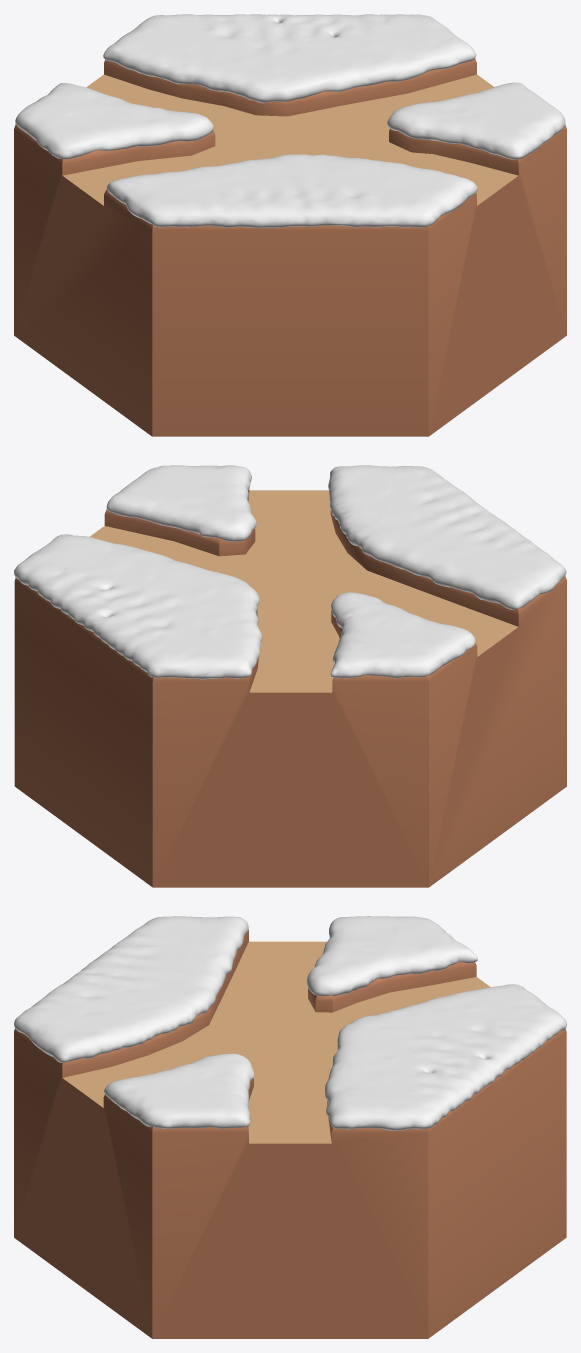
The model's file is hex_rock_roadJ.fbx.
3 renders of one model, top to bottom at view 1: azimuth 30°, elevation 25°; view 2: azimuth 150°, elevation 25°; view 3: azimuth 270°, elevation 25°, orthographic.
Parts seen in each view (by area): view 1: hex_rock_roadJ.001, SnowBall.001, hex_rock_roadJ; view 2: hex_rock_roadJ.001, SnowBall.001, hex_rock_roadJ; view 3: hex_rock_roadJ.001, SnowBall.001, hex_rock_roadJ.
Boxes of the visible parts, x1,y1,x2,y2 form: hex_rock_roadJ.001: (14, 59, 566, 436); SnowBall.001: (15, 14, 565, 227); hex_rock_roadJ: (63, 74, 517, 205); hex_rock_roadJ.001: (14, 489, 566, 887); SnowBall.001: (14, 465, 566, 679); hex_rock_roadJ: (90, 490, 517, 692); hex_rock_roadJ.001: (14, 929, 566, 1338); SnowBall.001: (14, 916, 566, 1130); hex_rock_roadJ: (63, 941, 490, 1143).
Bounding box in the file's own units: 204 × 104 × 231.
